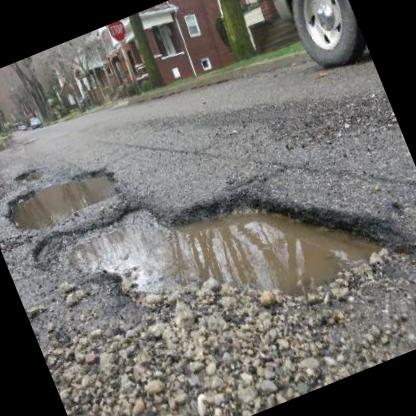pothole: (24, 110, 416, 398), (0, 155, 124, 242), (9, 161, 42, 187)
